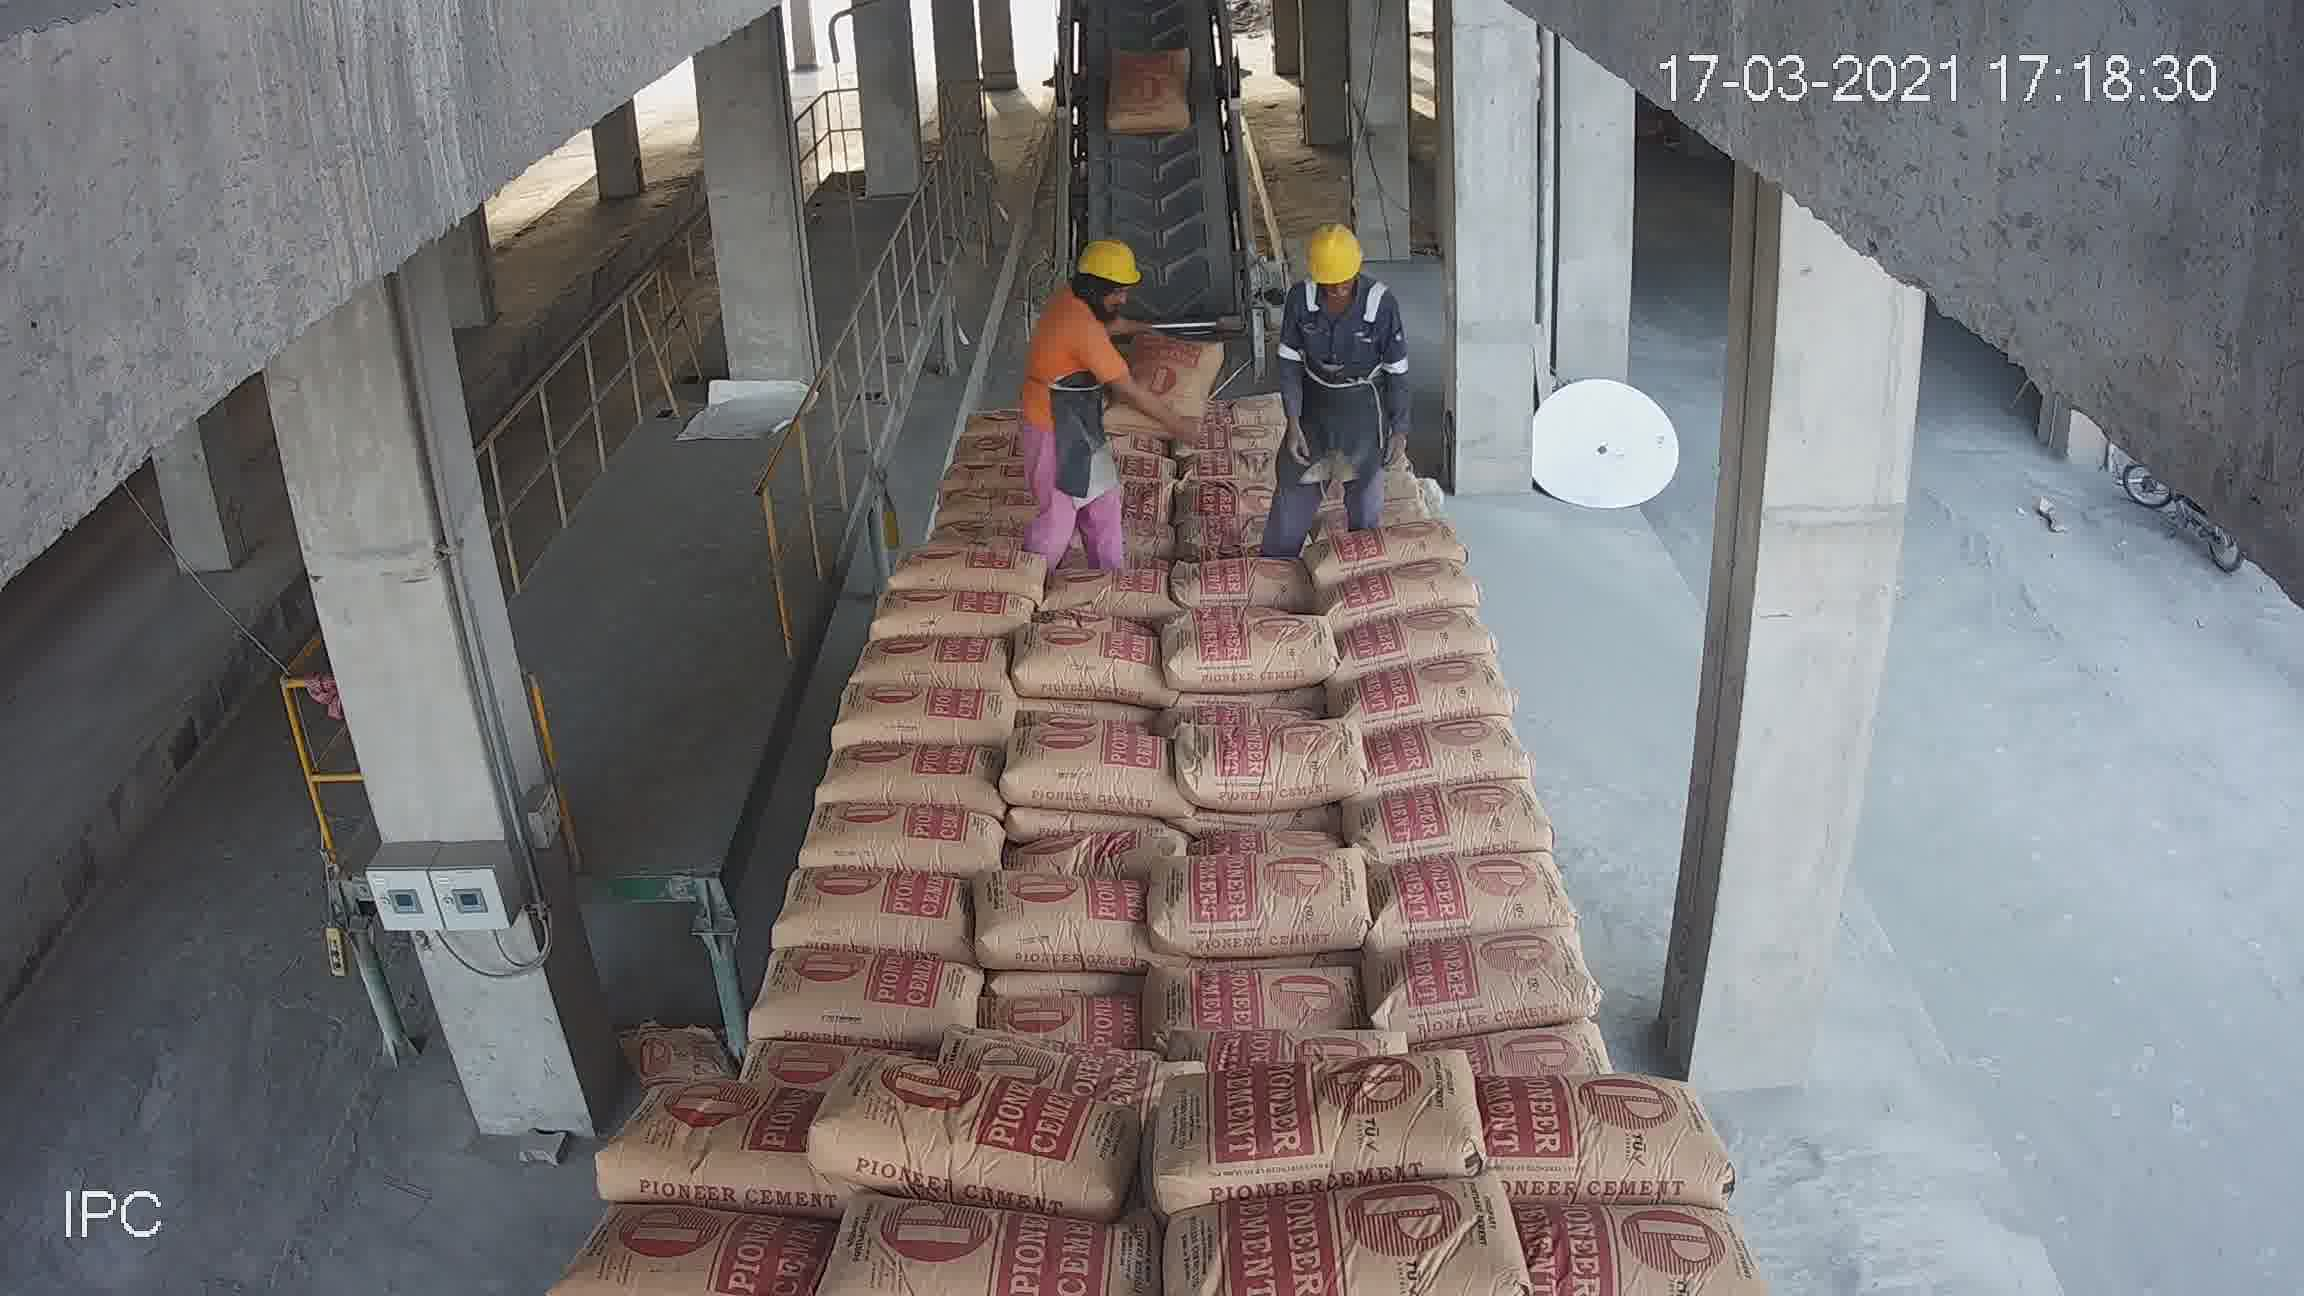bag: (1120, 340, 1223, 430), (1100, 47, 1195, 142)
bag_h: (1141, 1036, 1506, 1201), (809, 1049, 1144, 1201), (1470, 1062, 1730, 1201), (589, 1070, 813, 1204), (1369, 921, 1605, 1040), (1150, 848, 1375, 956), (756, 858, 972, 968), (729, 949, 991, 1038), (1359, 843, 1570, 943), (961, 858, 1158, 962), (1155, 954, 1370, 1044), (1002, 714, 1198, 805), (796, 791, 1017, 870), (1177, 711, 1353, 809), (1355, 706, 1541, 798), (1340, 646, 1529, 736), (820, 671, 1029, 752), (937, 1027, 1206, 1086), (976, 965, 1165, 1048), (1168, 1025, 1418, 1086), (801, 739, 1006, 812), (1359, 790, 1567, 861), (1160, 609, 1336, 688), (1324, 608, 1511, 674), (1006, 817, 1174, 888), (1014, 625, 1171, 699), (842, 628, 1021, 692), (1312, 511, 1465, 581), (1342, 555, 1492, 622), (867, 584, 1046, 638), (878, 549, 1060, 592), (1035, 563, 1157, 612), (1180, 555, 1290, 609), (921, 508, 1040, 557), (1188, 441, 1272, 491), (938, 456, 1029, 500), (923, 491, 1032, 524), (1192, 479, 1271, 521)
belt: (1070, 5, 1261, 364)
